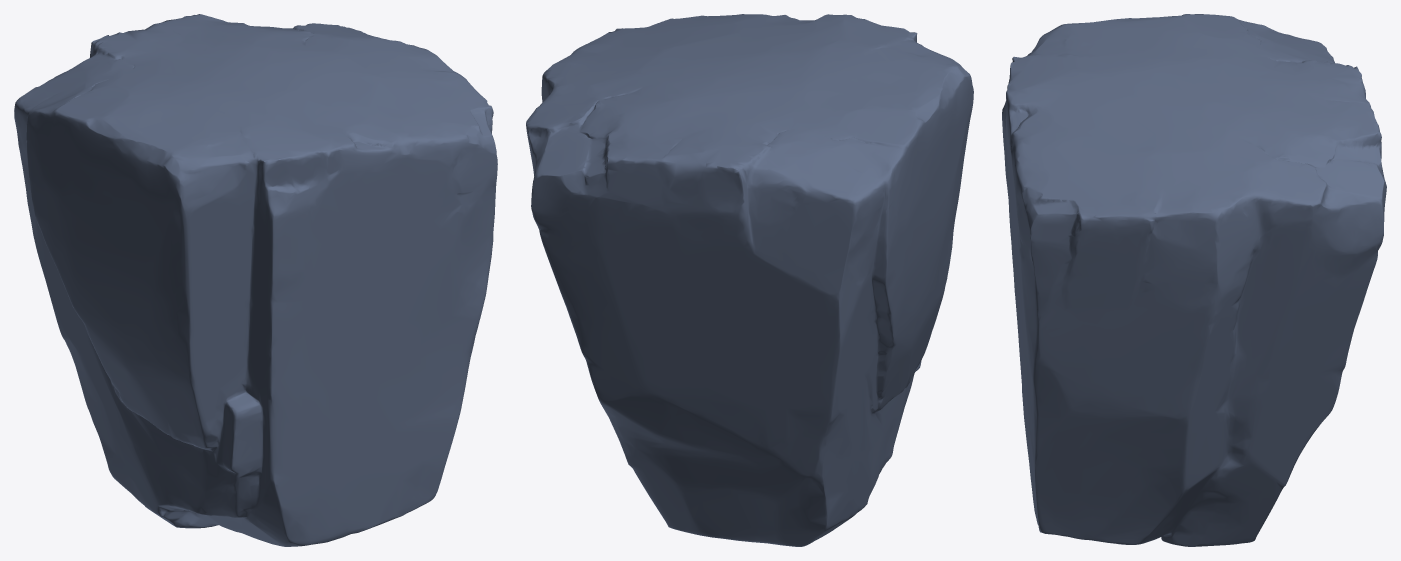
3 views of the same model, side by side, from view 1: azimuth 30°, elevation 25°; view 2: azimuth 150°, elevation 25°; view 3: azimuth 270°, elevation 25° (orthographic). The views are drawn at different scales.
Visible parts, largest first — view 1: SM_GF_Cliff_Top_02_LOD0; view 2: SM_GF_Cliff_Top_02_LOD0; view 3: SM_GF_Cliff_Top_02_LOD0.
Boxes of the visible parts, left/top/right/bottom form: SM_GF_Cliff_Top_02_LOD0: left=14, top=14, right=497, bottom=546; SM_GF_Cliff_Top_02_LOD0: left=526, top=14, right=973, bottom=546; SM_GF_Cliff_Top_02_LOD0: left=1002, top=14, right=1386, bottom=546.
Size of the model in its own units: 15.04 by 16.81 by 13.52.
